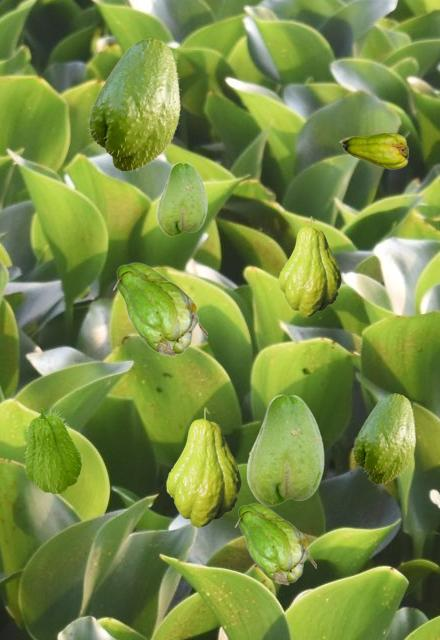sayote: (86, 38, 180, 172), (112, 262, 206, 356), (166, 407, 240, 526), (246, 394, 323, 505), (234, 503, 315, 584), (278, 216, 340, 316), (351, 393, 415, 484), (23, 407, 82, 493), (156, 162, 206, 235), (339, 132, 407, 168)
